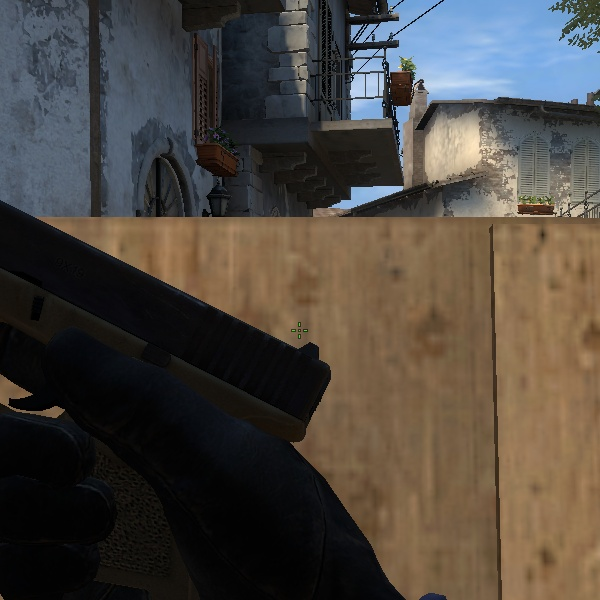t_body: (196, 118, 240, 217)
